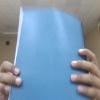notebook: (7, 5, 93, 99)
